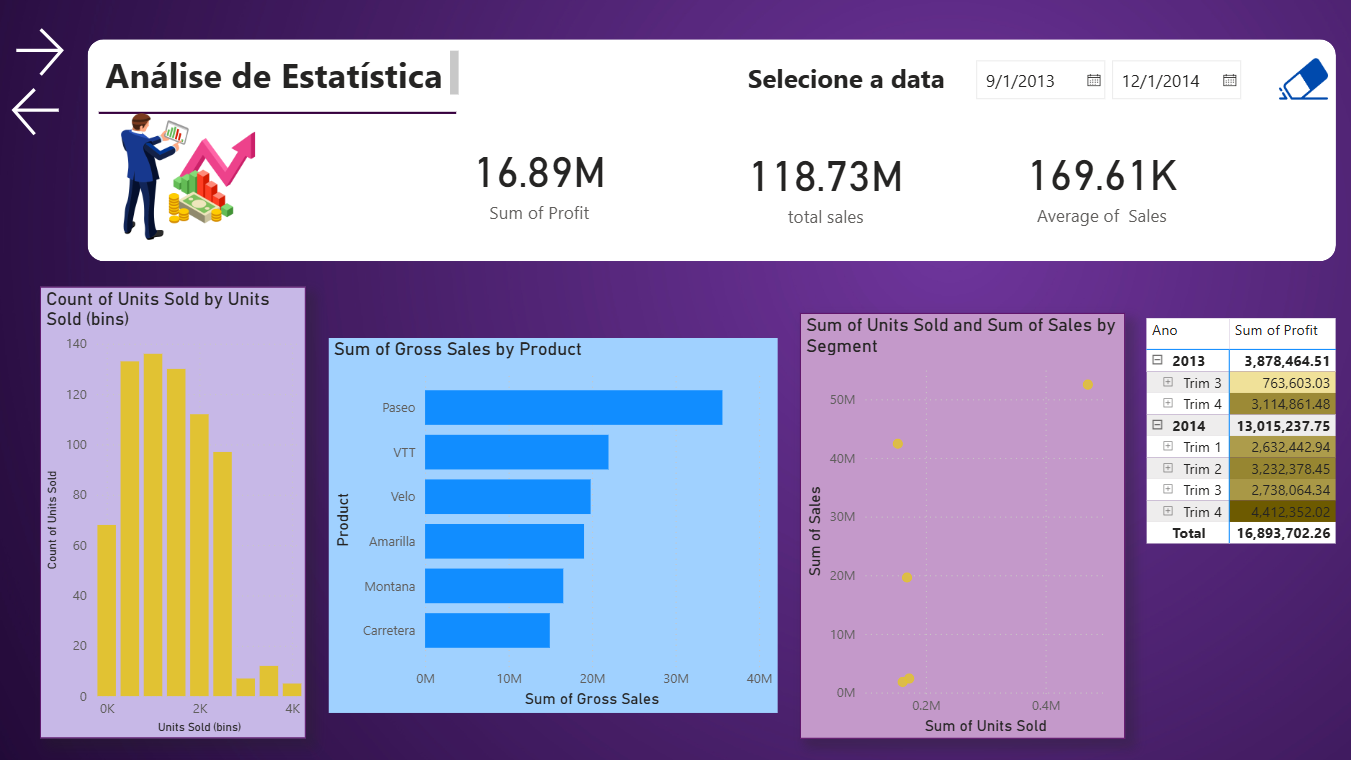

The page's visual inventory and layout, read from the dashboard file:
{"tool":"powerbi","page":{"name":"Analise Estatistica","canvas":[1280,720],"ordinal":3},"visuals":[{"type":"image","title":"fundo_purple","box":[0,0,1280.3,720],"z":0},{"type":"shape","box":[91.3,42.5,1161.3,206.6],"z":0,"group":"g1"},{"type":"actionButton","title":"Botão - Next","box":[17.4,26.7,58,56.3],"z":1000},{"type":"shape","box":[100.9,95.9,332.5,30],"z":1000,"group":"g1"},{"type":"slicer","fields":{"Values":["financials.Date"]},"box":[905.3,51.8,272.2,55.6],"z":2000,"group":"g1"},{"type":"actionButton","title":"Botão - Next","box":[15.1,82.6,60.5,55.8],"z":2000},{"type":"textbox","box":[102.5,15.9,341.7,62.2],"z":3000},{"type":"textbox","box":[700.1,57.5,199.6,45.6],"z":3000,"group":"g1"},{"type":"card","fields":{"Values":["financials.total sales"]},"box":[672.6,124.4,211,105.5],"z":4000,"group":"g1"},{"type":"clusteredColumnChart","fields":{"Category":["financials.Units Sold (bins)"],"Y":["CountNonNull(financials.Units Sold)"]},"box":[46.2,273.8,247.5,420],"z":4000},{"type":"textbox","box":[102.2,48.4,338.8,51.2],"z":5000,"group":"g1"},{"type":"scatterChart","fields":{"Category":["financials.Segment"],"X":["Sum(financials.Units Sold)"],"Y":["Sum(financials. Sales)"]},"box":[753.8,297.5,302.5,396.2],"z":5000},{"type":"actionButton","box":[1191.8,56.1,59.9,51.3],"z":6000,"group":"g1"},{"type":"pivotTable","fields":{"Rows":["financials.Date.Variation.Hierarquia de datas.Ano","financials.Date.Variation.Hierarquia de datas.Trimestre","financials.Date.Variation.Hierarquia de datas.Mês","financials.Date.Variation.Hierarquia de datas.Dia"],"Values":["Sum(financials.Profit)"]},"box":[1071.2,297.5,192.5,273.8],"z":6000},{"type":"barChart","fields":{"Category":["financials.Product"],"Y":["Sum(financials.Gross Sales)"]},"box":[315,321.2,417.5,348.8],"z":7000},{"type":"group","id":"g1","title":"Filtro por data","box":[89.7,42.5,1162.9,206.6],"z":8000},{"type":"image","title":"clean","box":[1191.8,51.8,59.9,55.6],"z":8000,"group":"g1"},{"type":"actionButton","box":[1177.5,60,73.8,40],"z":8001},{"type":"card","fields":{"Values":["Avg(financials. Sales)"]},"box":[928.8,123.1,211,105.5],"z":9000,"group":"g1"},{"type":"card","fields":{"Values":["Sum(financials.Profit)"]},"box":[406.3,120.6,211,105.5],"z":11000,"group":"g1"},{"type":"image","box":[89.7,101.9,224.4,137.2],"z":12000,"group":"g1"}]}

Visuals, with their boxes in screenshot pixels (x1, y1, x2, y2), scaled from the page's 1280x720 canvas onto the 1351x760 screenshot:
"fundo_purple" image: crop(0, 0, 1350, 759)
shape: crop(96, 45, 1322, 263)
"Botão - Next" actionButton: crop(18, 28, 80, 88)
shape: crop(106, 101, 457, 133)
slicer - financials.Date: crop(956, 55, 1243, 113)
"Botão - Next" actionButton: crop(16, 87, 80, 146)
textbox: crop(108, 17, 469, 82)
textbox: crop(739, 61, 950, 109)
card - financials.total sales: crop(710, 131, 933, 243)
clusteredColumnChart - financials.Units Sold (bins) x CountNonNull(financials.Units Sold): crop(49, 289, 310, 732)
textbox: crop(108, 51, 465, 105)
scatterChart - financials.Segment x Sum(financials.Units Sold): crop(796, 314, 1115, 732)
actionButton: crop(1258, 59, 1321, 113)
pivotTable - financials.Date.Variation.Hierarquia de datas.Ano x financials.Date.Variation.Hierarquia de datas.Trimestre: crop(1131, 314, 1334, 603)
barChart - financials.Product x Sum(financials.Gross Sales): crop(332, 339, 773, 707)
"Filtro por data" group: crop(95, 45, 1322, 263)
"clean" image: crop(1258, 55, 1321, 113)
actionButton: crop(1243, 63, 1321, 106)
card - Avg(financials. Sales): crop(980, 130, 1203, 241)
card - Sum(financials.Profit): crop(429, 127, 652, 239)
image: crop(95, 108, 332, 252)
